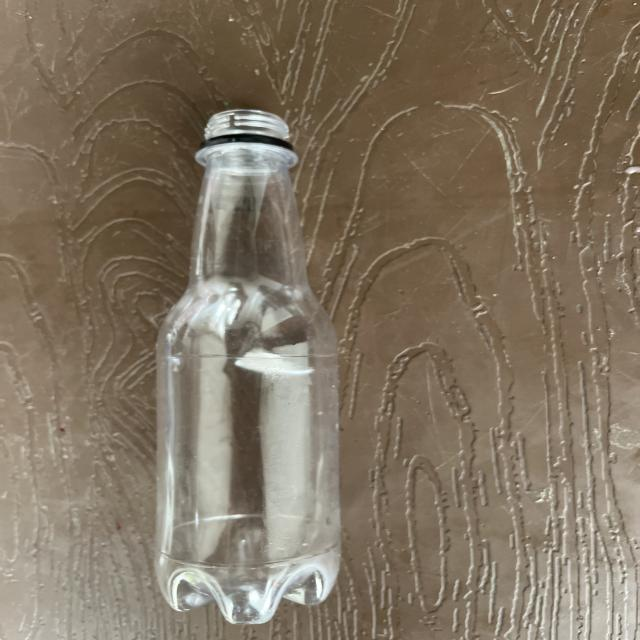PET_With_Cap: (147, 102, 354, 628)
